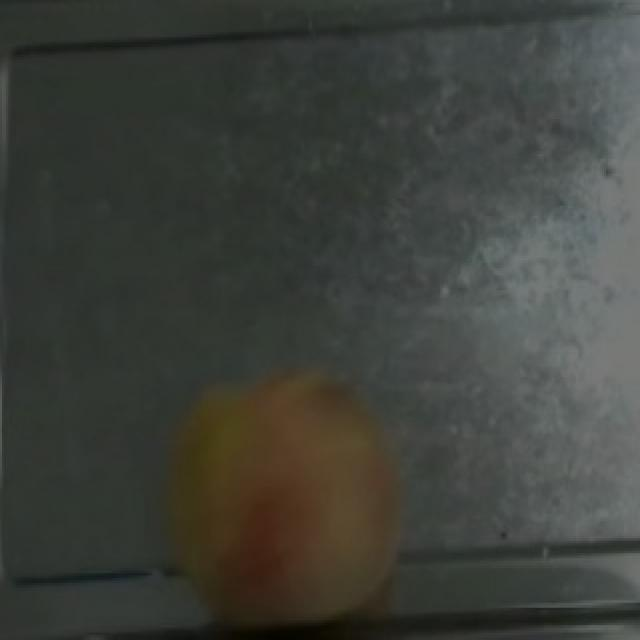Fruit: (136, 352, 424, 640)
